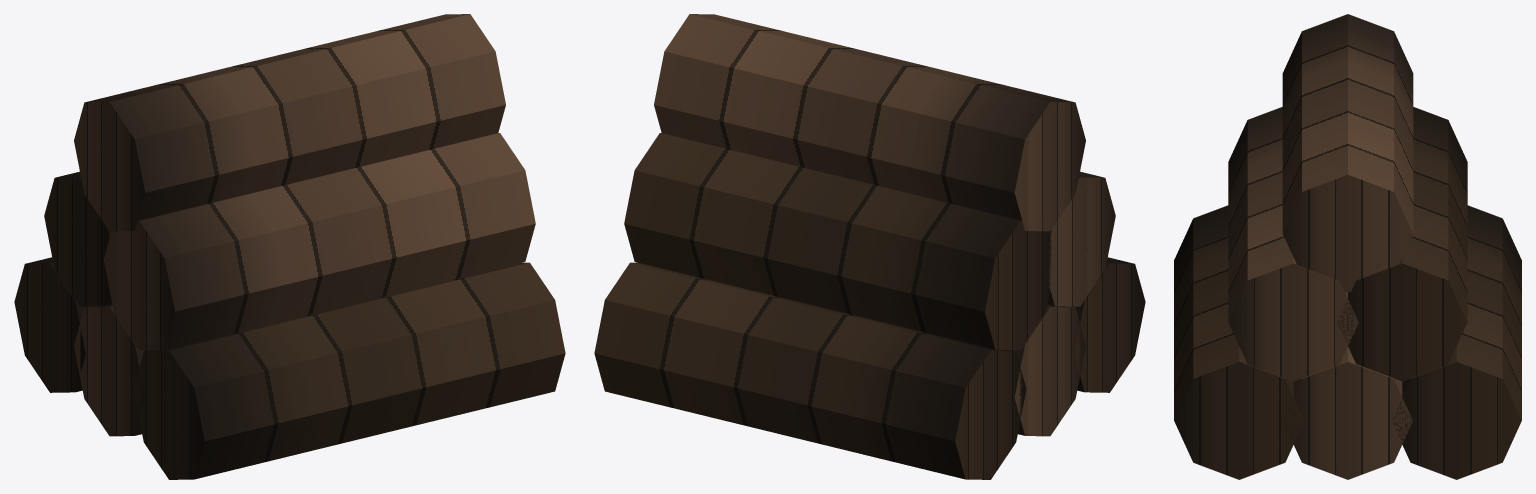
The model's file is wood_pile.glb.
3 views of the same model, side by side, from view 1: azimuth 30°, elevation 25°; view 2: azimuth 150°, elevation 25°; view 3: azimuth 270°, elevation 25° (orthographic). The views are drawn at different scales.
Parts seen in each view (by area): view 1: wood_pile; view 2: wood_pile; view 3: wood_pile.
Boxes of the visible parts, x1,y1,x2,y2 form: wood_pile: (14,14,565,479); wood_pile: (594,14,1145,479); wood_pile: (1174,14,1521,479).
Bounding box in the file's own units: 0.7 × 0.62 × 0.64.
Materials: 1 (1 with a texture image).
